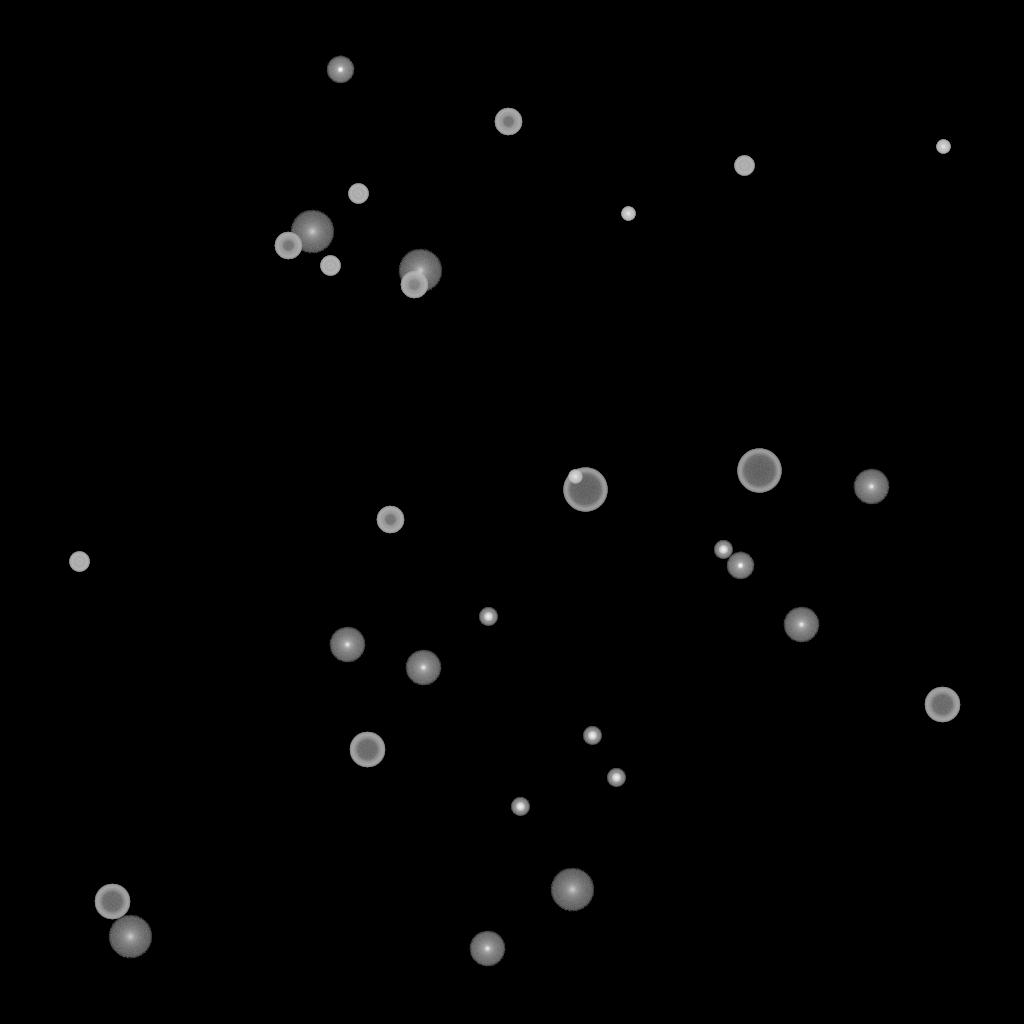depth:-10: (326, 56, 354, 84), (726, 552, 754, 580)
depth:-20: (479, 608, 497, 626), (511, 798, 529, 816), (583, 727, 601, 745), (714, 541, 732, 559), (607, 769, 625, 787)
depth:-30: (936, 140, 950, 154), (621, 207, 635, 221), (568, 470, 582, 484)
depth:-40: (69, 552, 89, 572), (320, 256, 340, 276), (348, 184, 368, 204), (734, 156, 754, 176)
depth:-50: (274, 232, 302, 260), (400, 271, 428, 299), (376, 506, 404, 534), (494, 108, 522, 136)
depth:-60: (349, 732, 385, 768), (94, 884, 130, 920), (924, 687, 960, 723)
depth:-70: (737, 449, 781, 493), (563, 468, 607, 512)
depth:0: (469, 931, 505, 967), (853, 469, 889, 505), (405, 650, 441, 686), (329, 627, 365, 663), (783, 607, 819, 643)
depth:10: (108, 915, 152, 959), (398, 249, 442, 293), (290, 210, 334, 254), (550, 868, 594, 912)
